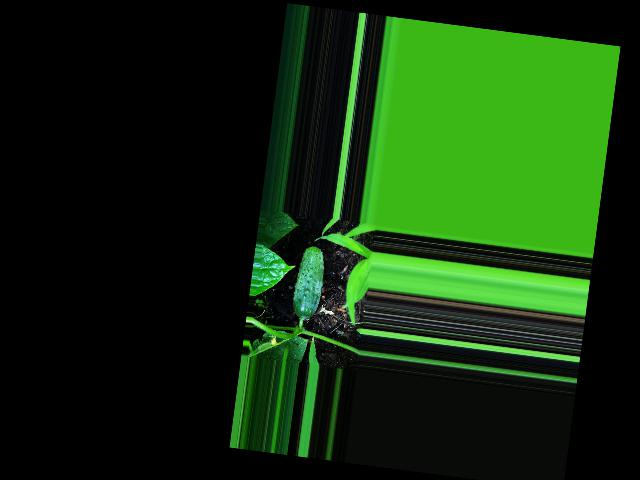cucumber: (291, 243, 328, 320)
